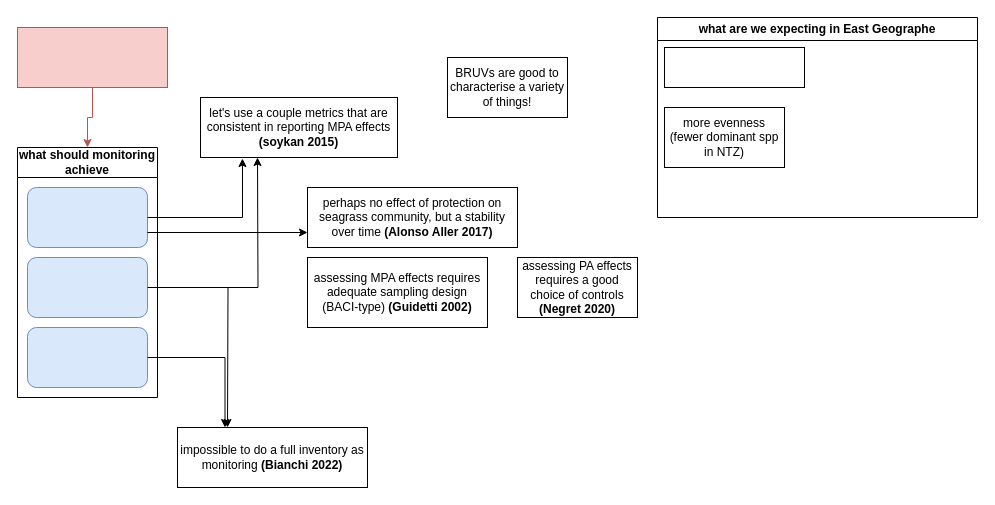
Some shapes in this 995 by 505 pixel diagram are drawn without their labels. The centre of each missing label's shape, as x and y in pixels:
"achievable and practical relative to the MPA's goals" goes at (87,357).
"correct characterisation of MPA effects" goes at (87,217).
"not necessarily exactitude in metrics (we're not here for inventory)" goes at (87,287).
"stability over time (can't study that here)" goes at (734,67).
"we want to detect MPA effects (Ngari Capes management plan)" goes at (92,57).
